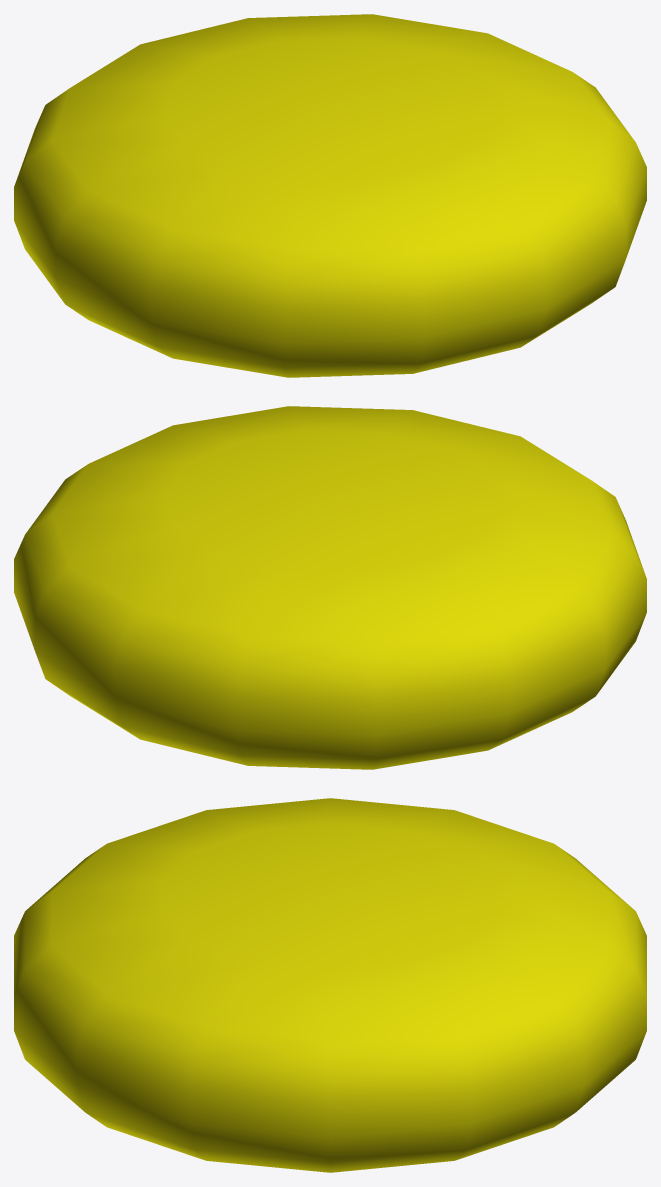
Rendered from Dragee Yellow.fbx.
3 views of the same model, one above another, from view 1: azimuth 30°, elevation 25°; view 2: azimuth 150°, elevation 25°; view 3: azimuth 270°, elevation 25° (orthographic). The views are drawn at different scales.
Visible parts, largest first — view 1: Dragee Yellow; view 2: Dragee Yellow; view 3: Dragee Yellow.
Part boxes in pixels (left/top/right/bottom): Dragee Yellow: left=14, top=14, right=646, bottom=377; Dragee Yellow: left=14, top=406, right=646, bottom=769; Dragee Yellow: left=14, top=798, right=646, bottom=1172.
Size of the model in its own units: 0.0851 by 0.0277 by 0.083.
